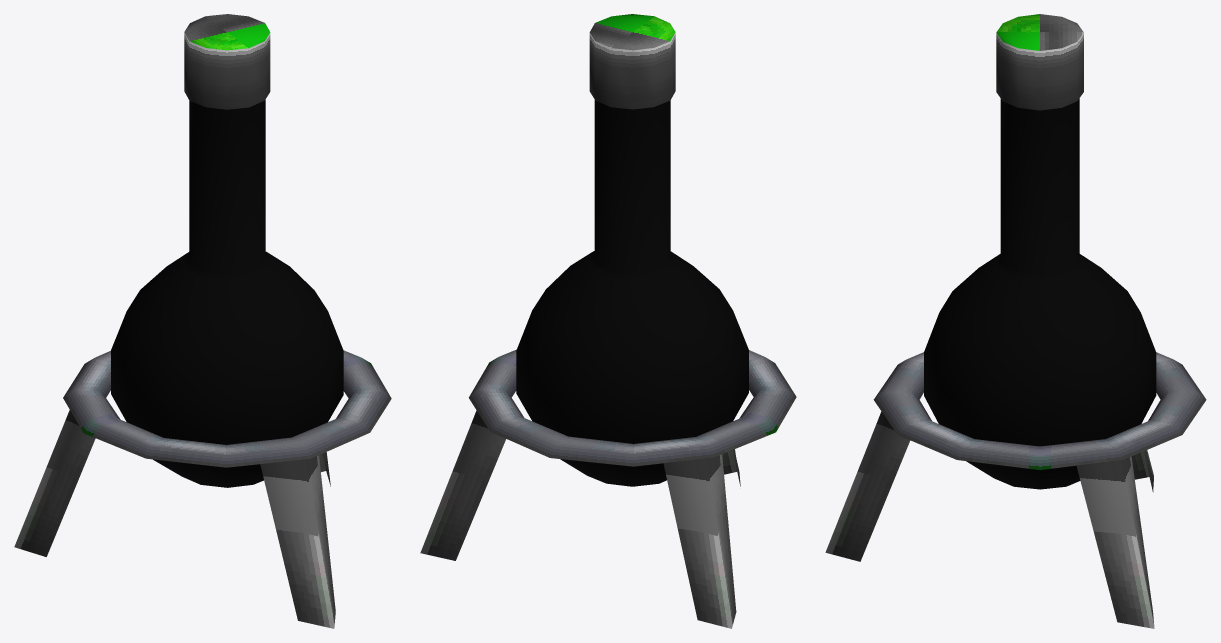
File: int_mad_flask.dae
The picture shows the model from 3 angles, left to right: view 1: azimuth 30°, elevation 25°; view 2: azimuth 150°, elevation 25°; view 3: azimuth 270°, elevation 25°; orthographic projection.
Parts seen in each view (by area): view 1: int_mad_flask; view 2: int_mad_flask; view 3: int_mad_flask.
Part boxes in pixels (x1=…): int_mad_flask: x1=14, y1=14, x2=391, y2=628; int_mad_flask: x1=420, y1=14, x2=796, y2=628; int_mad_flask: x1=825, y1=14, x2=1206, y2=628.
Size of the model in its own units: 16.51 by 26.2 by 17.4.
3 materials, 3 textured.
